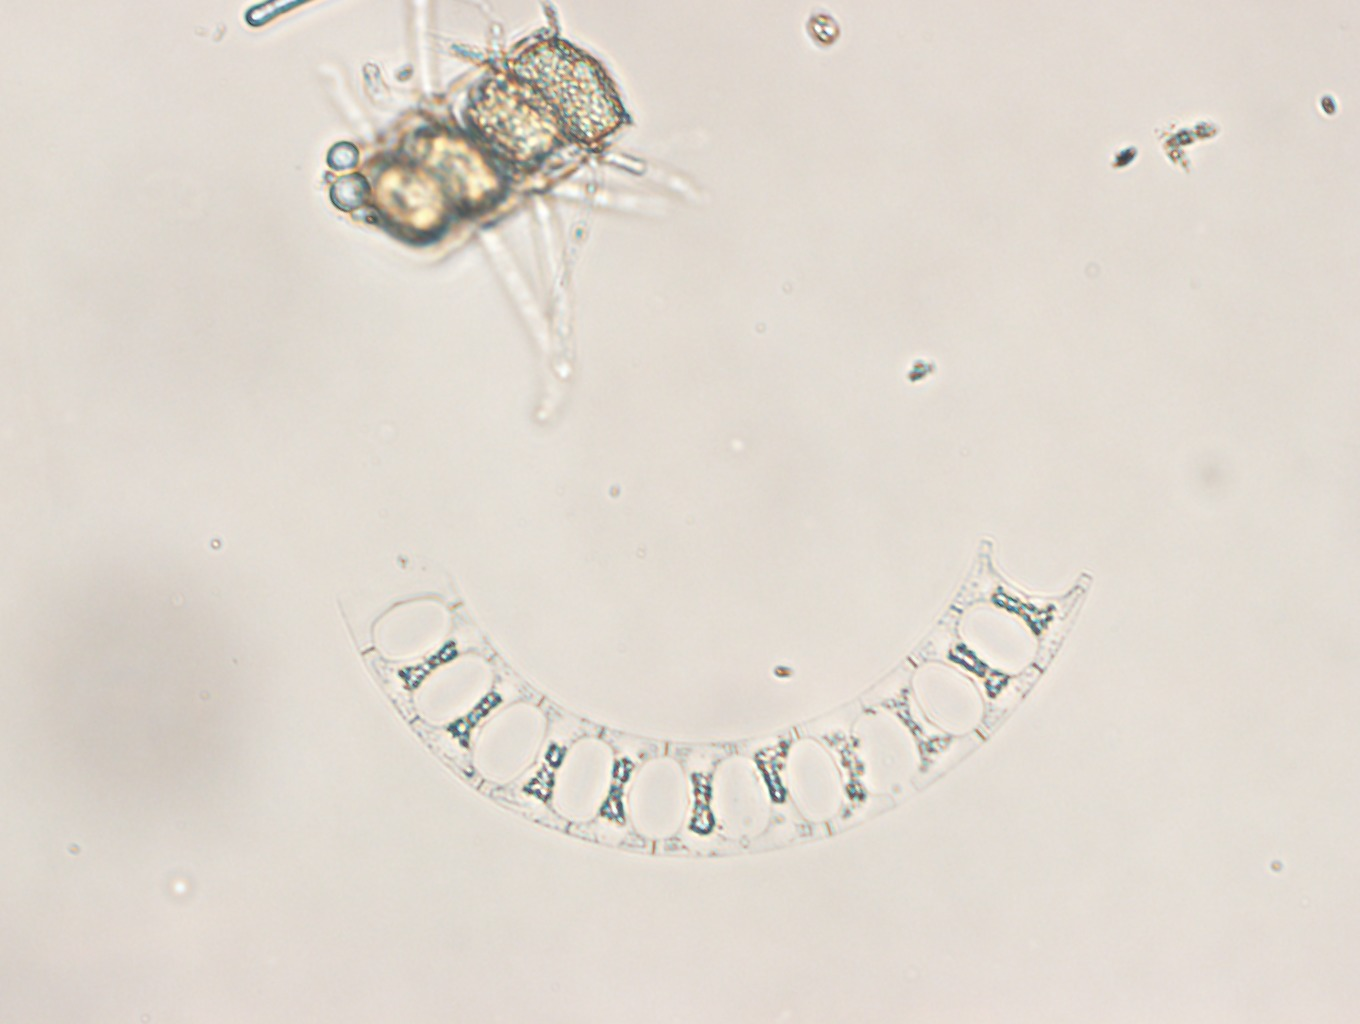chaetoceros: (315, 1, 719, 435)
eucampia: (335, 538, 1090, 858)
